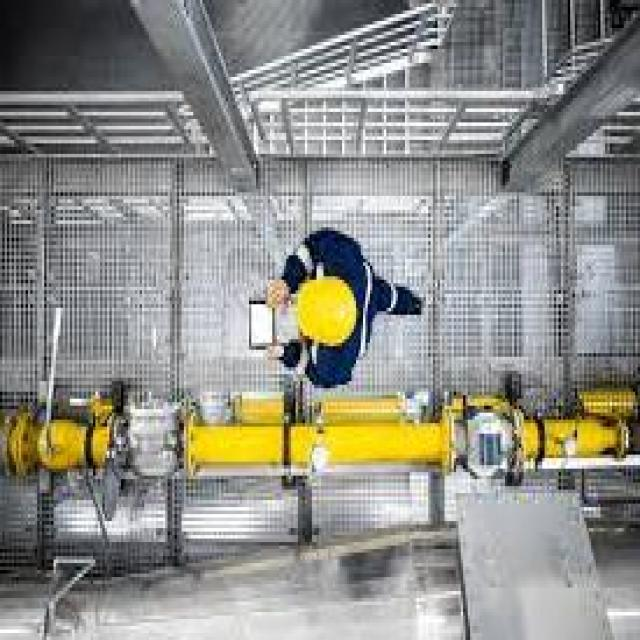Safety-Helmet: (286, 266, 366, 357)
